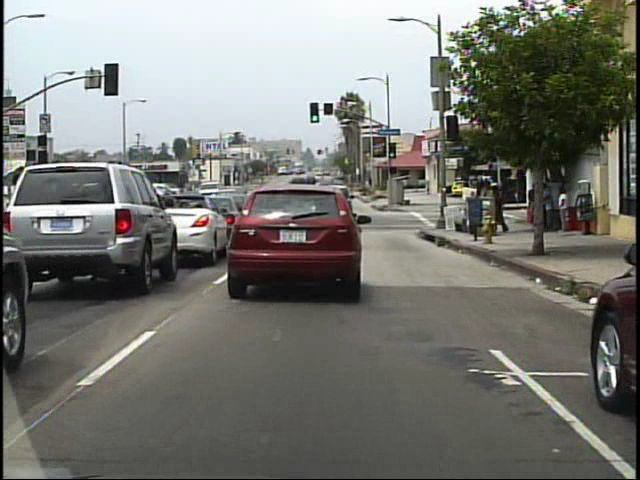person: (535, 181, 552, 235), (556, 186, 571, 235), (496, 182, 509, 234), (527, 183, 540, 221)
